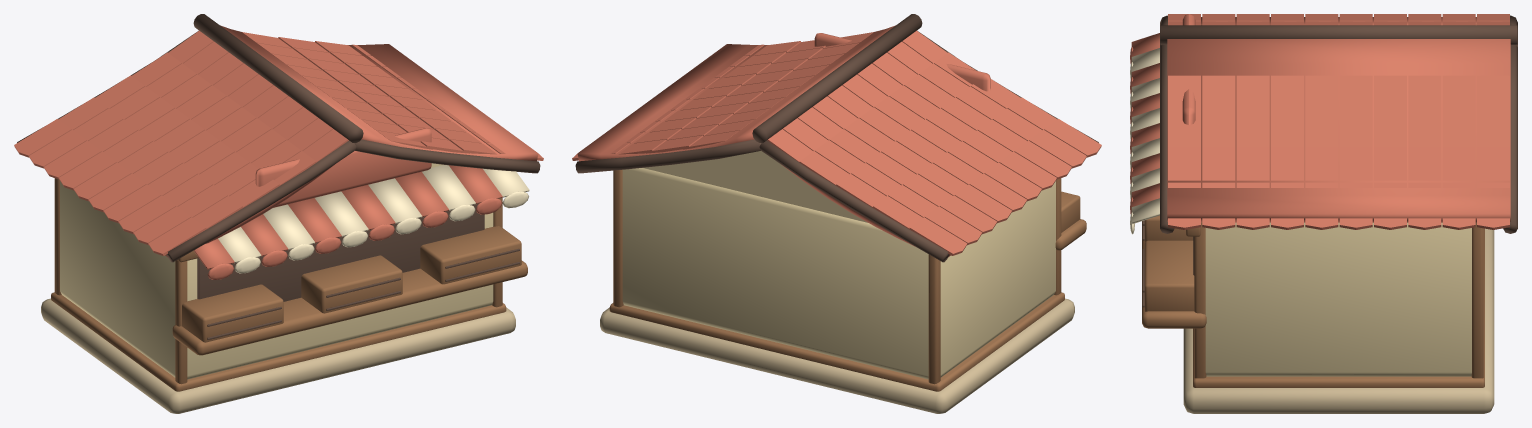
The model's file is market.glb.
3 views of the same model, side by side, from view 1: azimuth 30°, elevation 25°; view 2: azimuth 150°, elevation 25°; view 3: azimuth 270°, elevation 25° (orthographic). The views are drawn at different scales.
Parts seen in each view (by area): view 1: market_crafted_mesh; view 2: market_crafted_mesh; view 3: market_crafted_mesh.
Boxes of the visible parts, x1,y1,x2,y2 form: market_crafted_mesh: (14,14,543,413); market_crafted_mesh: (572,14,1101,413); market_crafted_mesh: (1130,14,1517,413).
Size of the model in its own units: 5.52 by 3.51 by 4.18.
